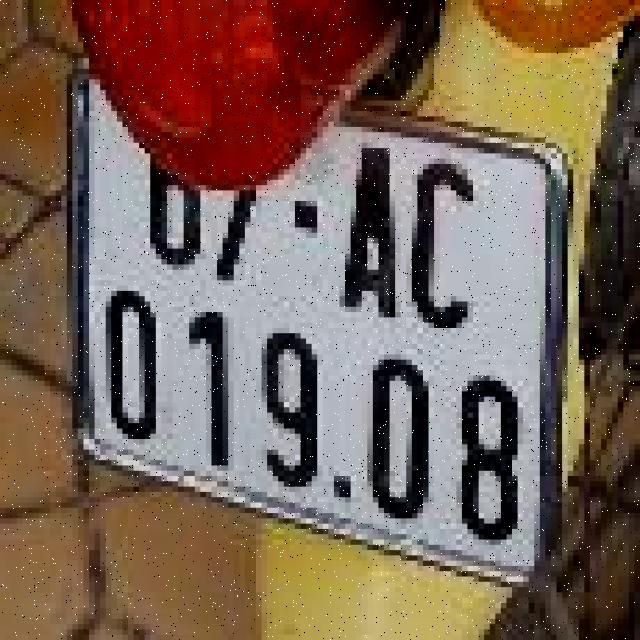0: (357, 347, 444, 523), (94, 279, 183, 450)
1: (179, 297, 248, 471)
6: (133, 104, 219, 274)
7: (206, 98, 281, 292)
8: (453, 354, 534, 547)
9: (252, 321, 332, 500)
A: (328, 129, 413, 316)
C: (403, 139, 492, 341)
